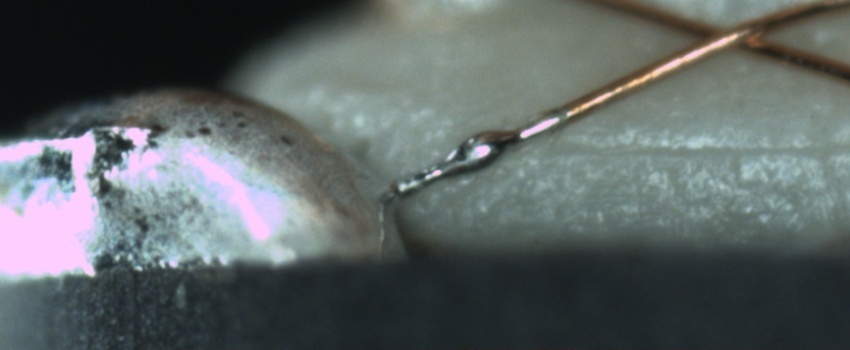CL: (667, 7, 794, 61)
DL: (555, 120, 849, 177)
TB: (447, 130, 514, 173)
TS: (391, 108, 570, 197)
TTCW: (377, 87, 602, 203)
